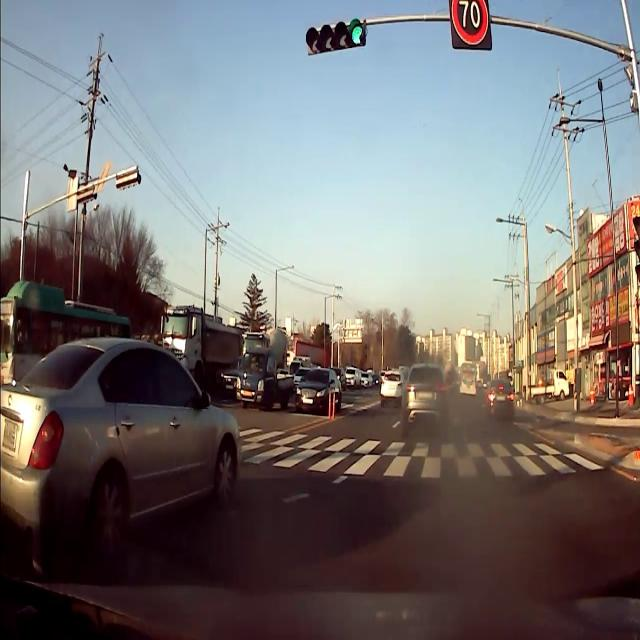Green Light: (348, 18, 365, 46)
